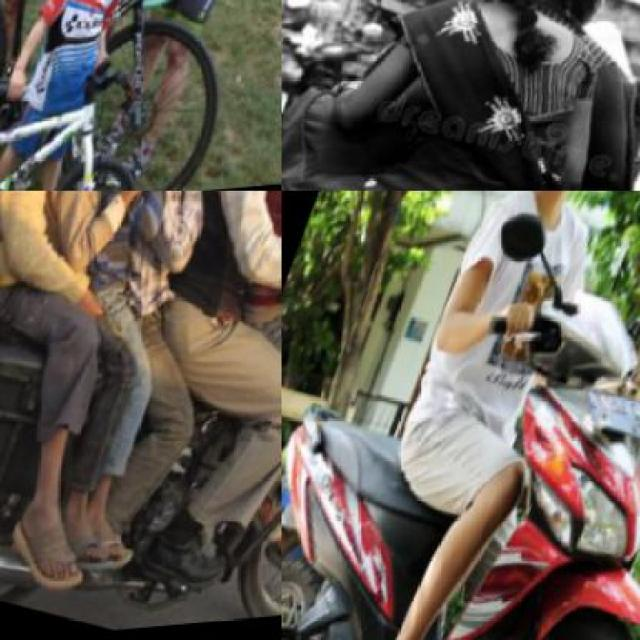With Helmet: (509, 0, 638, 48)
Without Helmet: (444, 0, 582, 37)
